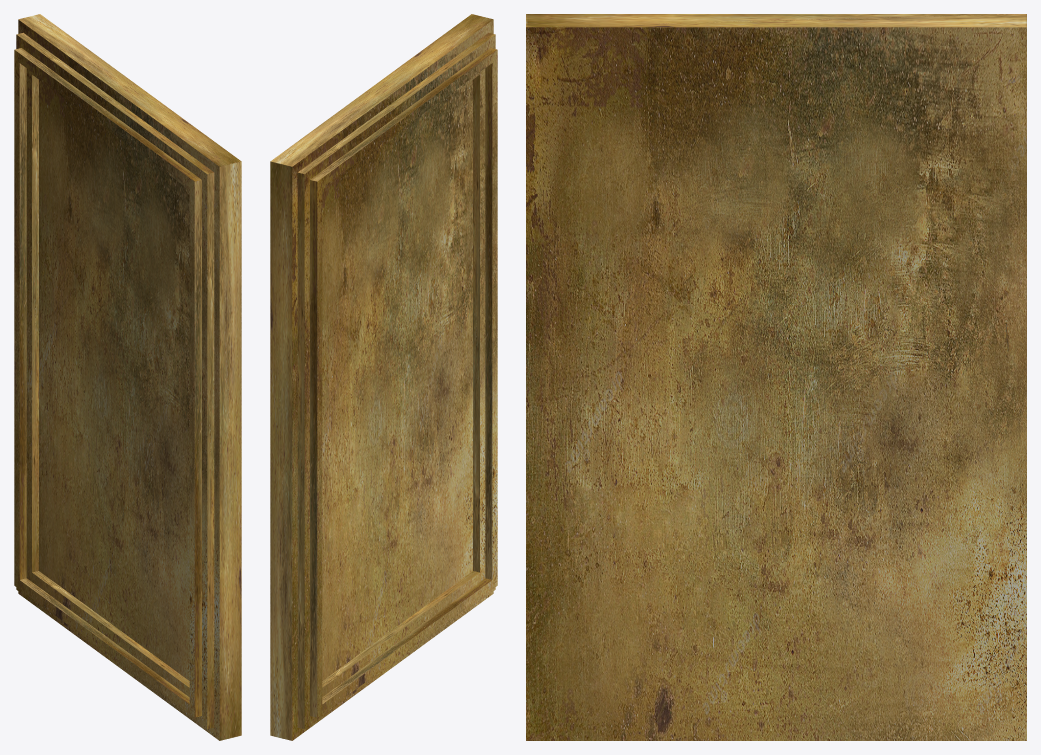
Rendered from cuadro3.FBX.
The picture shows the model from 3 angles, left to right: view 1: azimuth 30°, elevation 25°; view 2: azimuth 150°, elevation 25°; view 3: azimuth 270°, elevation 25°; orthographic projection. The views are drawn at different scales.
Parts seen in each view (by area): view 1: cuadro002; view 2: cuadro002; view 3: cuadro002.
Boxes of the visible parts, bbox=[...] form: cuadro002: bbox=[14, 14, 241, 740]; cuadro002: bbox=[270, 14, 497, 740]; cuadro002: bbox=[526, 14, 1026, 740].
Bounding box in the file's own units: 3.99 × 60.26 × 38.32.
